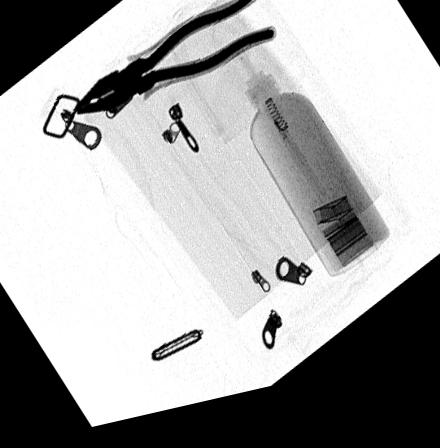Pliers: (70, 0, 279, 117)
